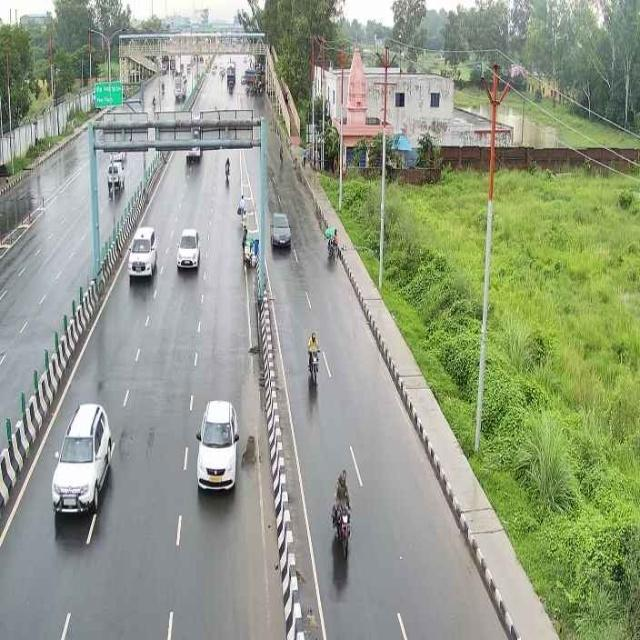car: (48, 395, 115, 529), (189, 392, 244, 501), (126, 220, 158, 285), (175, 223, 204, 277), (267, 204, 294, 253)
